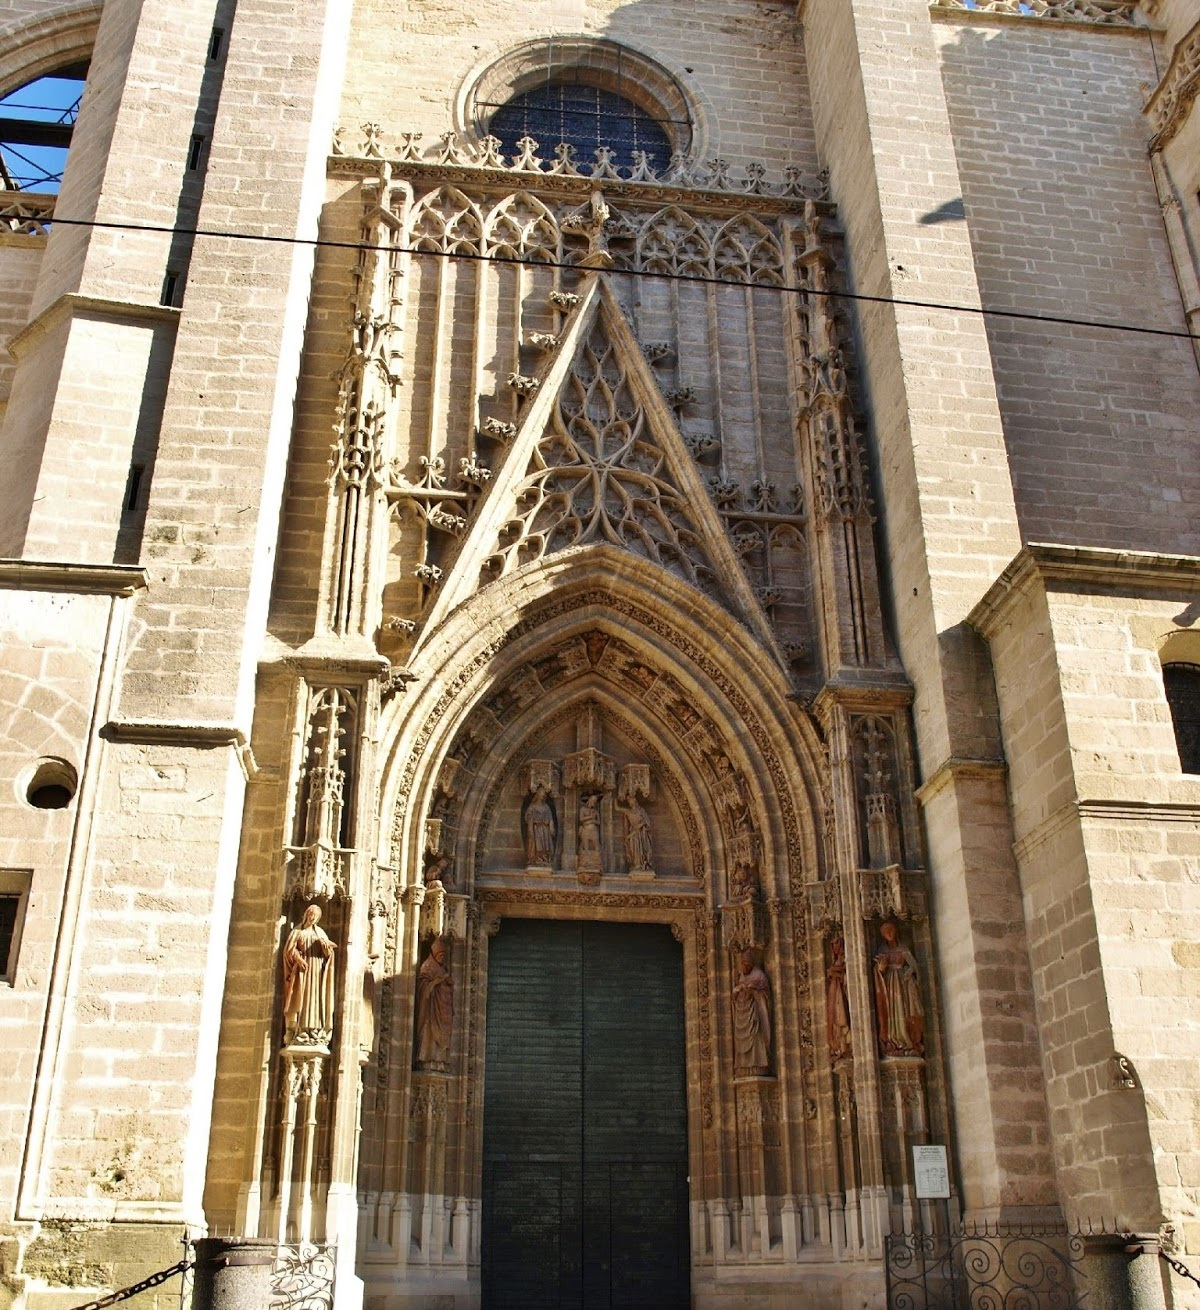arco-apuntado: (408, 576, 777, 900)
